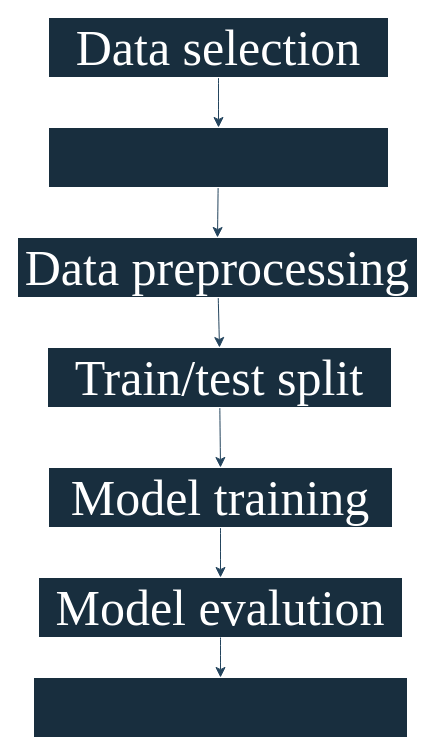
This 435x755 diagram has some shape labels left out. Each missing label, with the centre of its shape:
"Data loading" belongs at point (218, 157).
"Results" belongs at point (220, 707).
